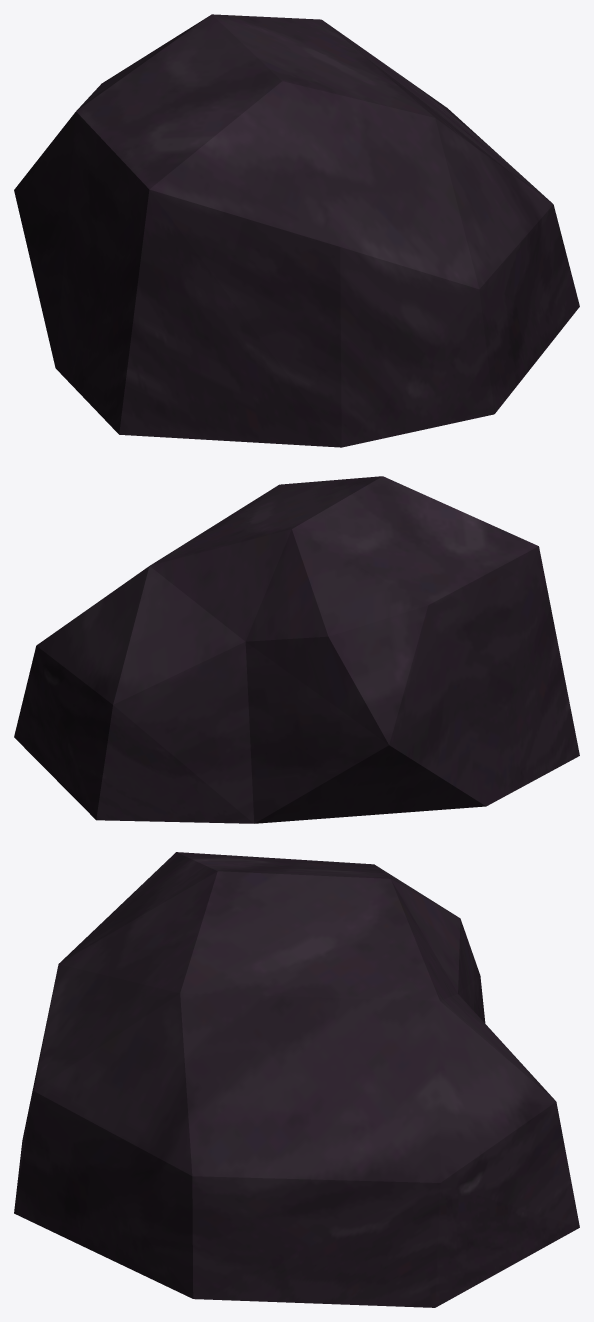
File: cave_rock_02.fbx
3 renders of one model, top to bottom at view 1: azimuth 30°, elevation 25°; view 2: azimuth 150°, elevation 25°; view 3: azimuth 270°, elevation 25°, orthographic. The views are drawn at different scales.
Visible parts, largest first — view 1: cave_tileset/rocks01_mat; view 2: cave_tileset/rocks01_mat; view 3: cave_tileset/rocks01_mat.
Part boxes in pixels (box(x1,y1,x2,y2)): cave_tileset/rocks01_mat: box(14, 14, 579, 447); cave_tileset/rocks01_mat: box(14, 476, 579, 823); cave_tileset/rocks01_mat: box(14, 852, 579, 1307).
Size of the model in its own units: 1.25 by 0.6912 by 1.23.
